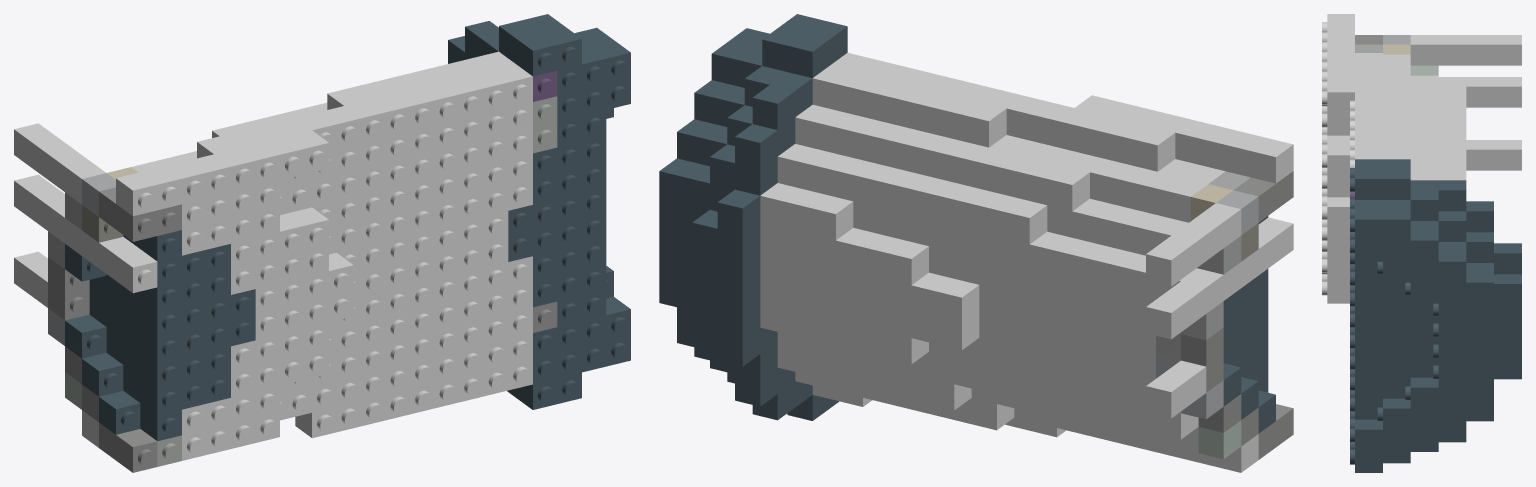
File: full.glb
3 views of the same model, side by side, from view 1: azimuth 30°, elevation 25°; view 2: azimuth 150°, elevation 25°; view 3: azimuth 270°, elevation 25° (orthographic). The views are drawn at different scales.
Parts seen in each view (by area): view 1: world; view 2: world; view 3: world.
Boxes of the visible parts, bbox=[...] form: world: bbox=[14, 14, 630, 472]; world: bbox=[659, 14, 1293, 472]; world: bbox=[1322, 14, 1521, 472].
Size of the model in its own units: 168 by 112 by 69.
